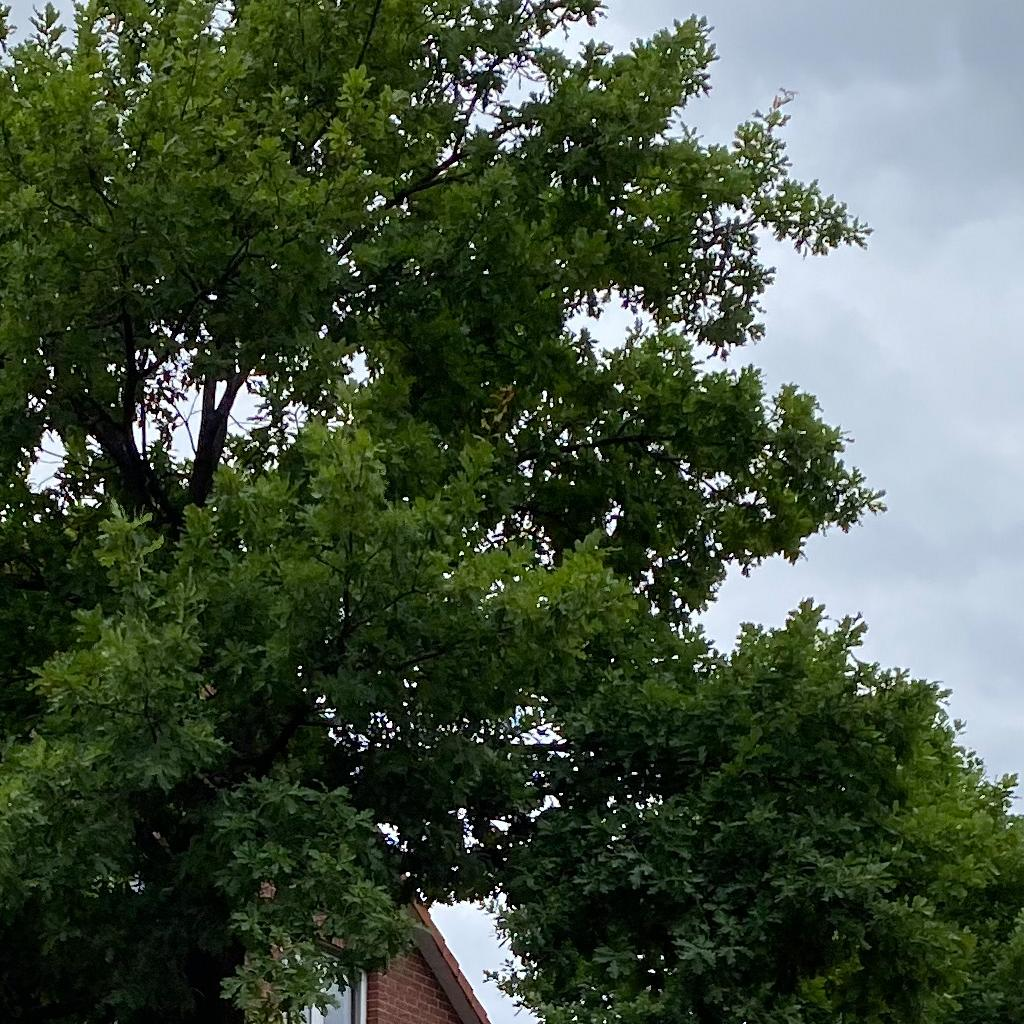tree: (1, 1, 887, 1023), (482, 597, 1023, 1023)
